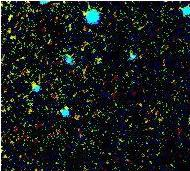star: (18, 68, 48, 98)
